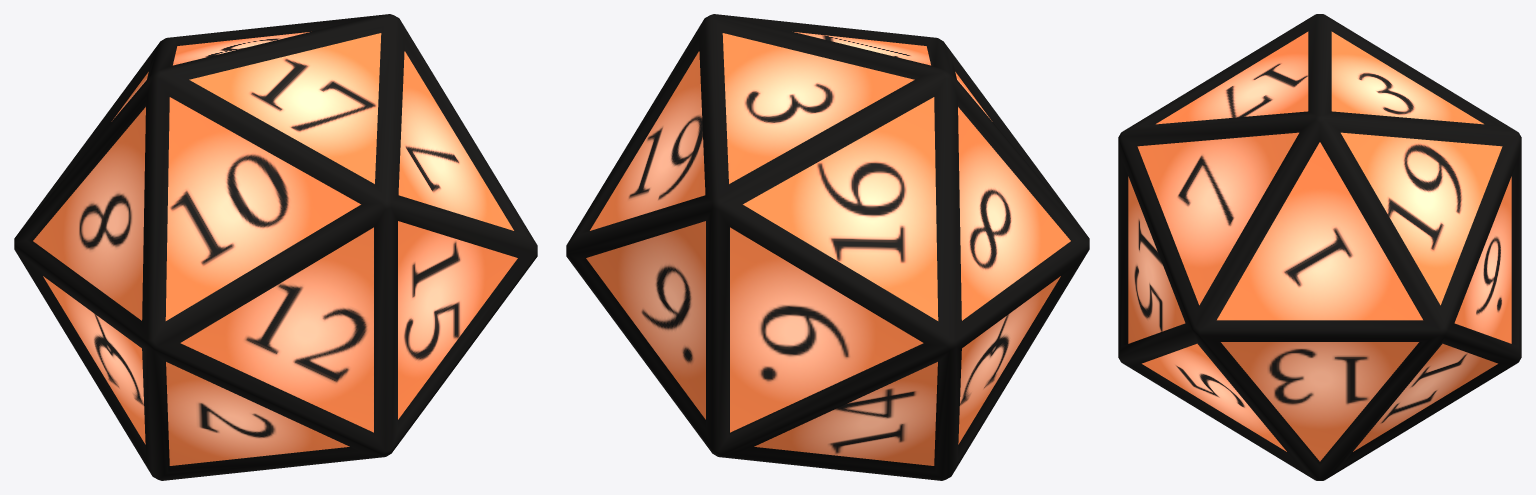
Rendered from crucible_d20.glb.
3 views of the same model, side by side, from view 1: azimuth 30°, elevation 25°; view 2: azimuth 150°, elevation 25°; view 3: azimuth 270°, elevation 25° (orthographic). The views are drawn at different scales.
Visible parts, largest first — view 1: Mesh_0; view 2: Mesh_0; view 3: Mesh_0.
Boxes of the visible parts, x1,y1,x2,y2 form: Mesh_0: (14,14,537,480); Mesh_0: (566,14,1089,480); Mesh_0: (1118,14,1521,480).
Size of the model in its own units: 169 by 169 by 169.
Materials: 1 (1 with a texture image).
